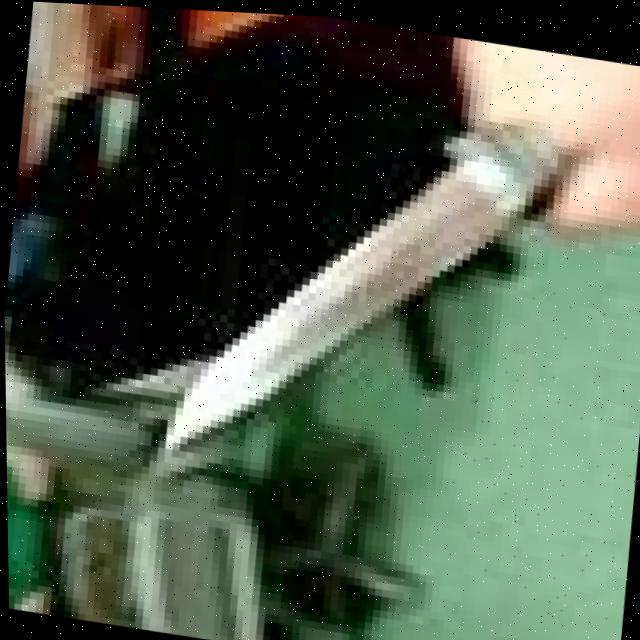knife: (152, 69, 582, 515)
